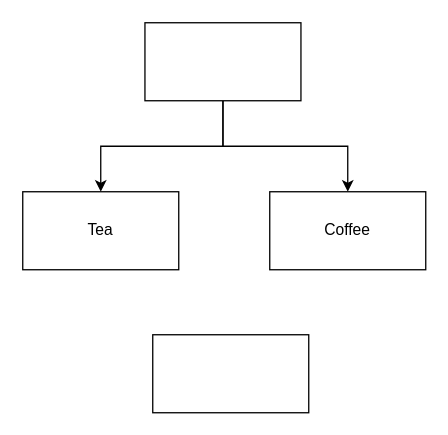
The diagram is 448 pixels wide and 435 high, and some of its shapes have lost their labels. Here are the shapes that lost their labels. From the top down, the box of each, then its label:
(144, 21, 301, 101): AbstractRecipe execute()
(151, 333, 309, 413): RecipeRunner
